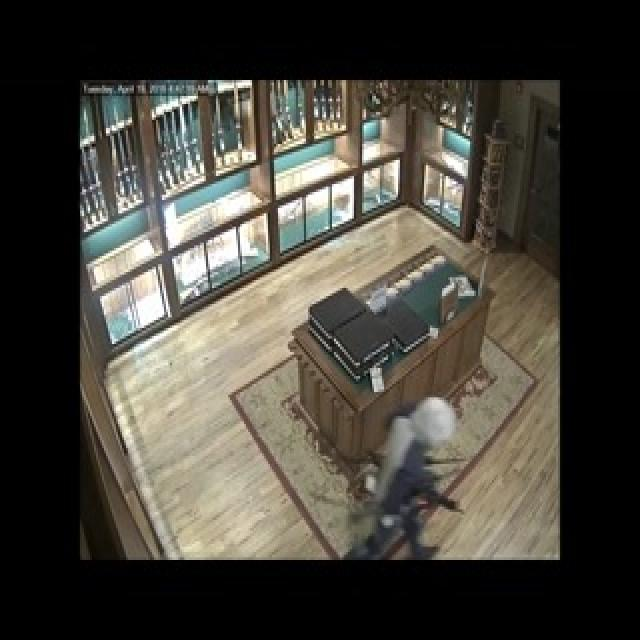thief: (366, 399, 464, 562)
